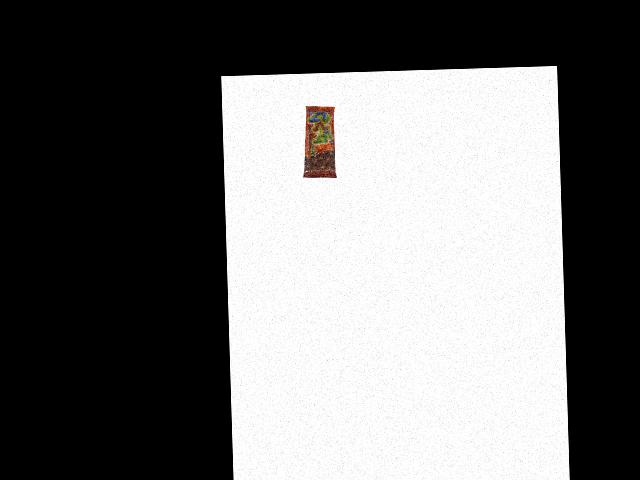chocolate: (302, 105, 336, 178)
